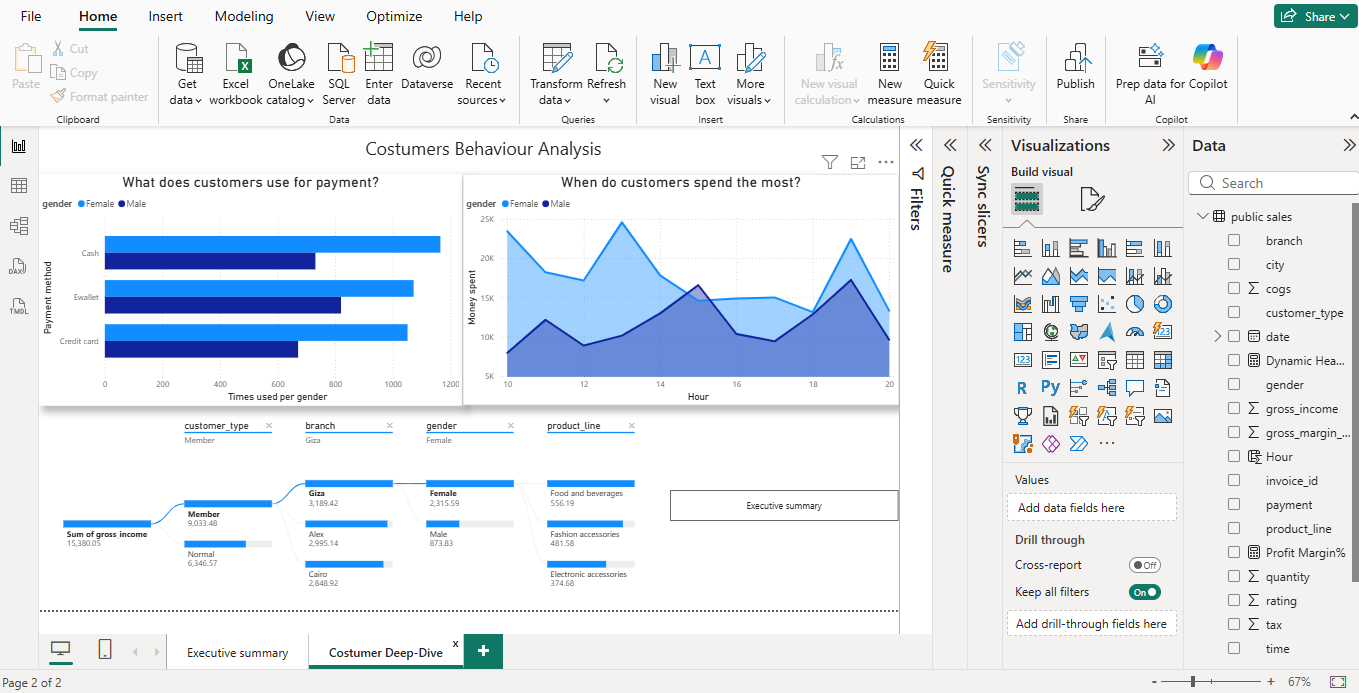

What the dashboard file says about the page in this screenshot:
{"tool":"powerbi","page":{"name":"Costumer Deep-Dive","canvas":[1280,720],"ordinal":1},"visuals":[{"type":"textbox","box":[272.6,69,343.5,217.8],"z":1000},{"type":"textbox","box":[366.8,8.8,590.7,60.4],"z":2000},{"type":"decompositionTreeVisual","fields":{"Analyze":["Sum(public sales.gross_income)"],"ExplainBy":["public sales.customer_type","public sales.branch","public sales.gender","public sales.product_line"]},"box":[1.9,414.9,937.7,292.1],"z":3000},{"type":"clusteredBarChart","title":"What does customers use for payment?","fields":{"Category":["public sales.payment"],"Y":["Sum(public sales.quantity)"],"Series":["public sales.gender"]},"box":[0,70.7,630.4,344.7],"z":4000},{"type":"areaChart","title":"When do customers spend the most?","fields":{"Y":["Sum(public sales.total)"],"Series":["public sales.gender"],"Category":["public sales.Hour"]},"box":[630.7,70.7,649.3,344.2],"z":5000},{"type":"pageNavigator","box":[939.5,541.4,340.5,46.5],"z":5001}]}

Visuals, with their boxes on the page's 1280x720 design canvas (x1, y1, x2, y2). These are canvas units, not pixel positions in the 1359x693 screenshot, which may show the page scaled, cropped or inside an application window:
textbox: 273,69,616,287
textbox: 367,9,958,69
decompositionTreeVisual - Sum(public sales.gross_income) x public sales.customer_type: 2,415,940,707
"What does customers use for payment?" clusteredBarChart: 0,71,630,415
"When do customers spend the most?" areaChart: 631,71,1280,415
pageNavigator: 940,541,1280,588
